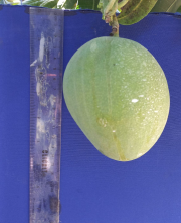Mango-sano: (63, 37, 169, 160)
